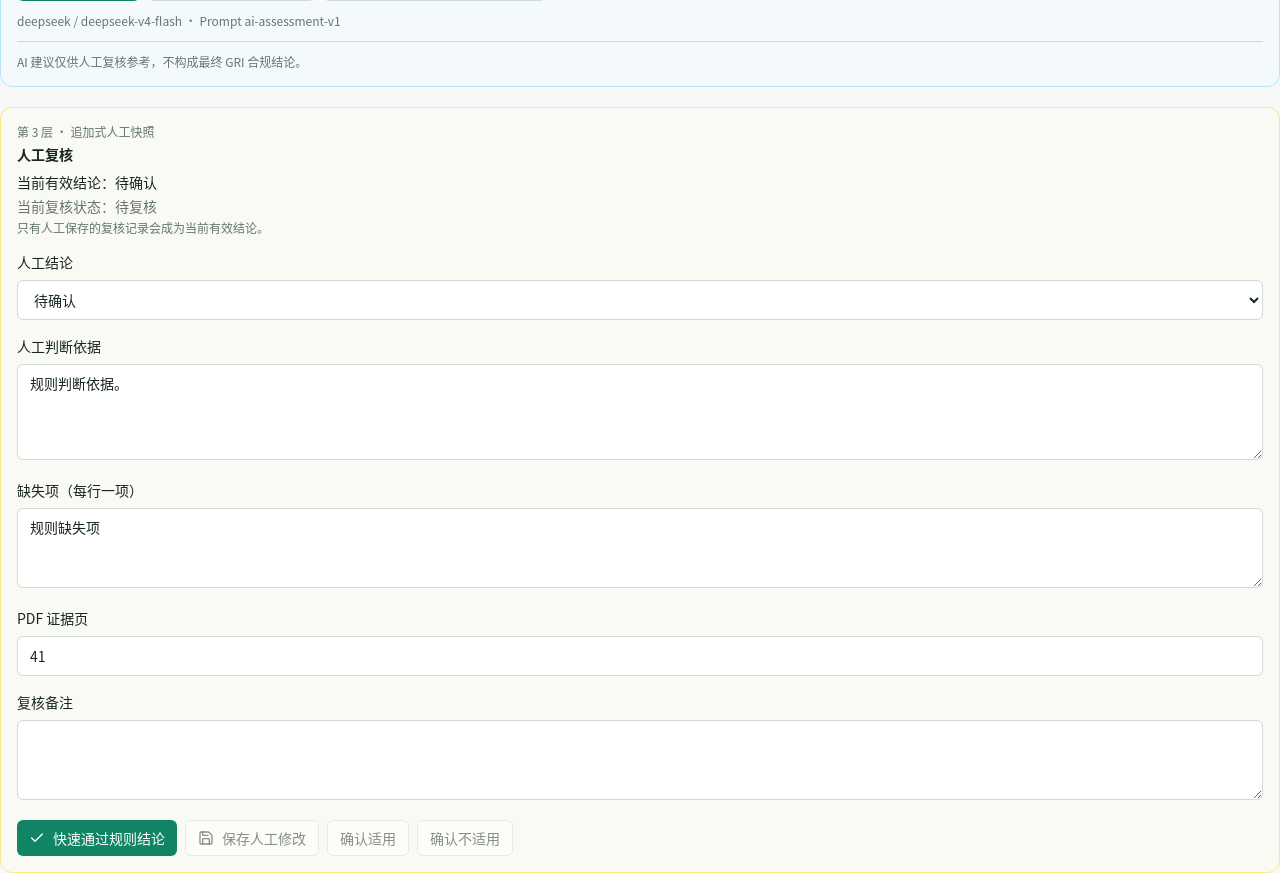
Scenario: ReviewEditor › shows the actionable message for API status 409
(page scrolled)
Click the button "快速通过规则结论" at (97, 838), box [17,820,177,856]
(page scrolled)
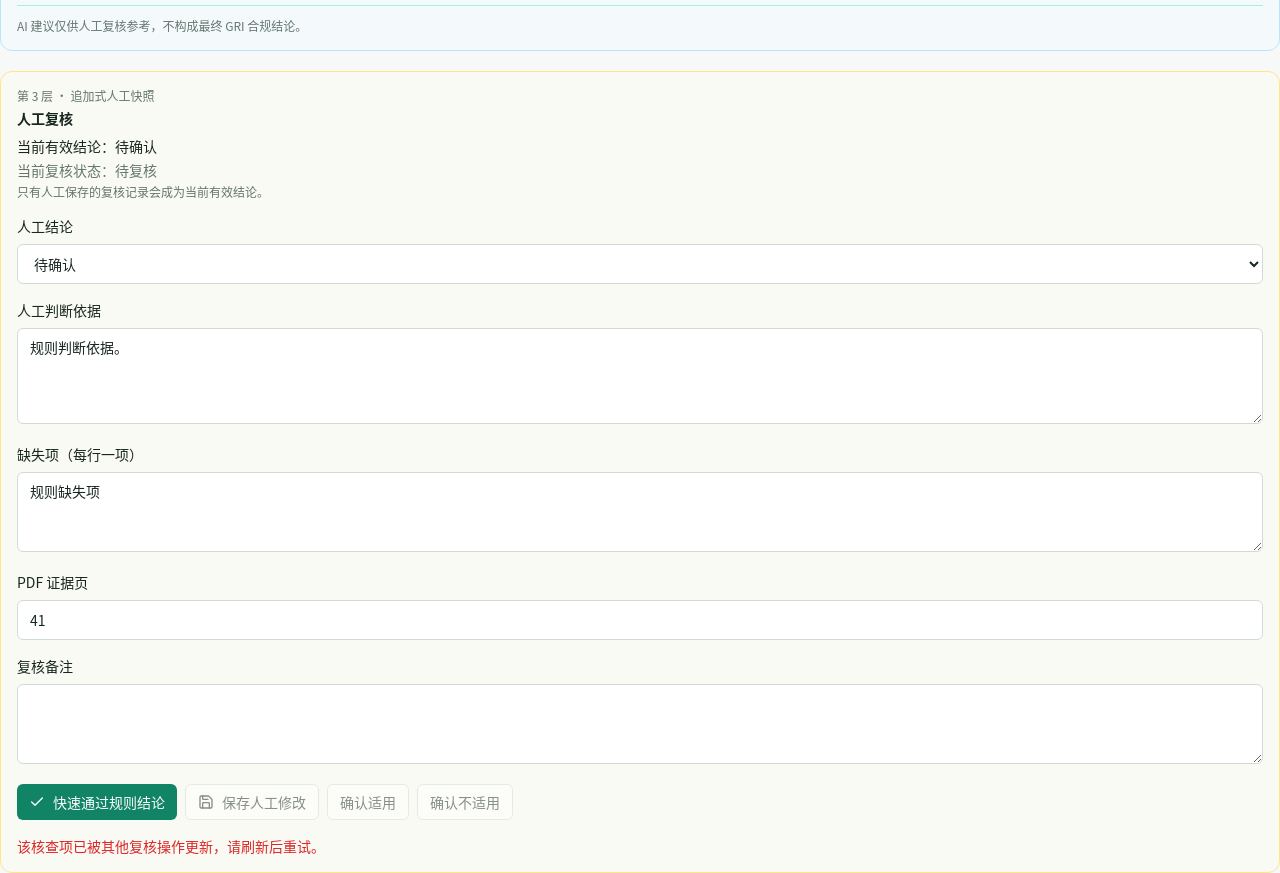
Check: the text "该核查项已被其他复核操作更新，请刷新后重试。" is shown, box [17,836,325,856]
